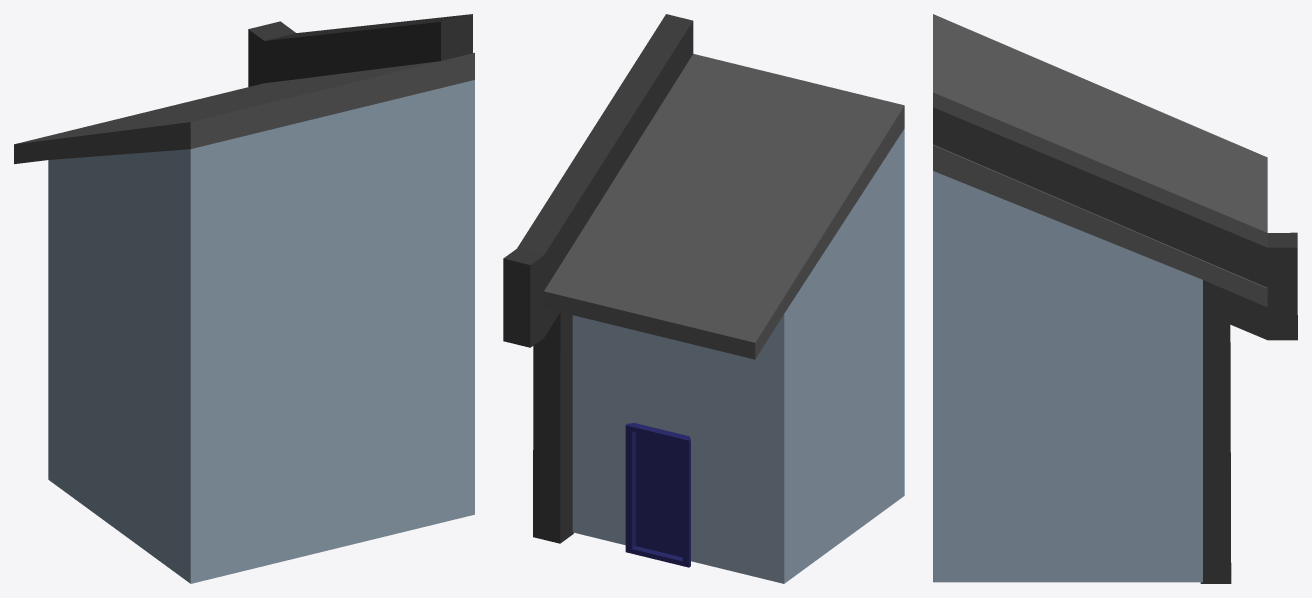
File: House.fbx
The picture shows the model from 3 angles, left to right: view 1: azimuth 30°, elevation 25°; view 2: azimuth 150°, elevation 25°; view 3: azimuth 270°, elevation 25°; orthographic projection. The views are drawn at different scales.
Parts seen in each view (by area): view 1: House.004; view 2: House.004; view 3: House.004.
Part boxes in pixels (bbox=[...]): House.004: bbox=[14, 14, 474, 583]; House.004: bbox=[503, 14, 904, 583]; House.004: bbox=[933, 14, 1297, 583].
Bounding box in the file's own units: 322 × 545 × 378.
